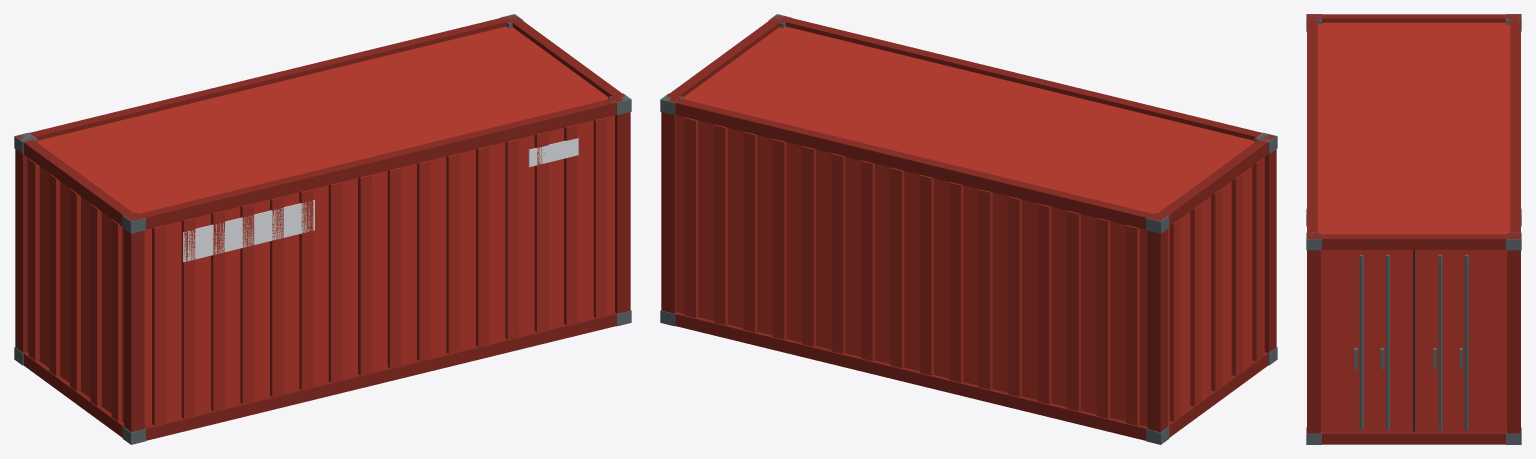
File: container.glb
3 renders of one model, left to right at view 1: azimuth 30°, elevation 25°; view 2: azimuth 150°, elevation 25°; view 3: azimuth 270°, elevation 25°, orthographic. The views are drawn at different scales.
Visible parts, largest first — view 1: container-m; view 2: container-m; view 3: container-m.
Boxes of the visible parts, left/top/right/bottom form: container-m: left=14, top=14, right=631, bottom=444; container-m: left=660, top=14, right=1277, bottom=444; container-m: left=1306, top=14, right=1521, bottom=444.
Size of the model in its own units: 6.14 by 2.59 by 2.46.
